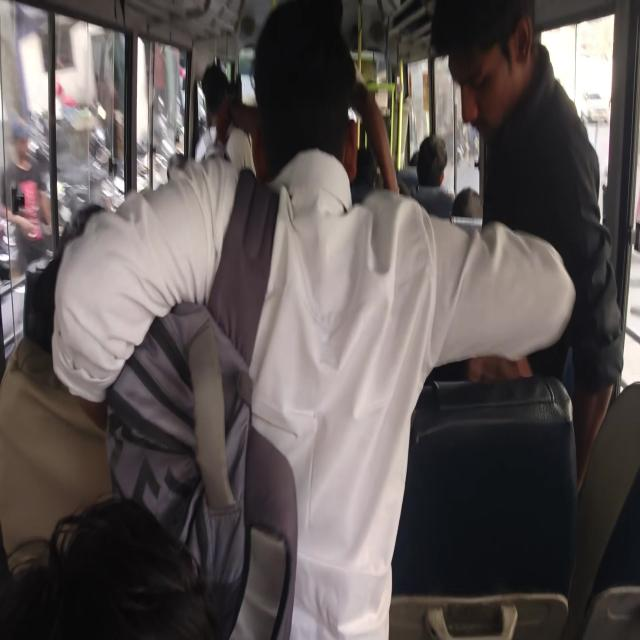person: (441, 0, 636, 316), (253, 20, 367, 396), (37, 543, 277, 640), (28, 212, 101, 386), (199, 58, 234, 135), (412, 133, 448, 193), (407, 147, 422, 171)
